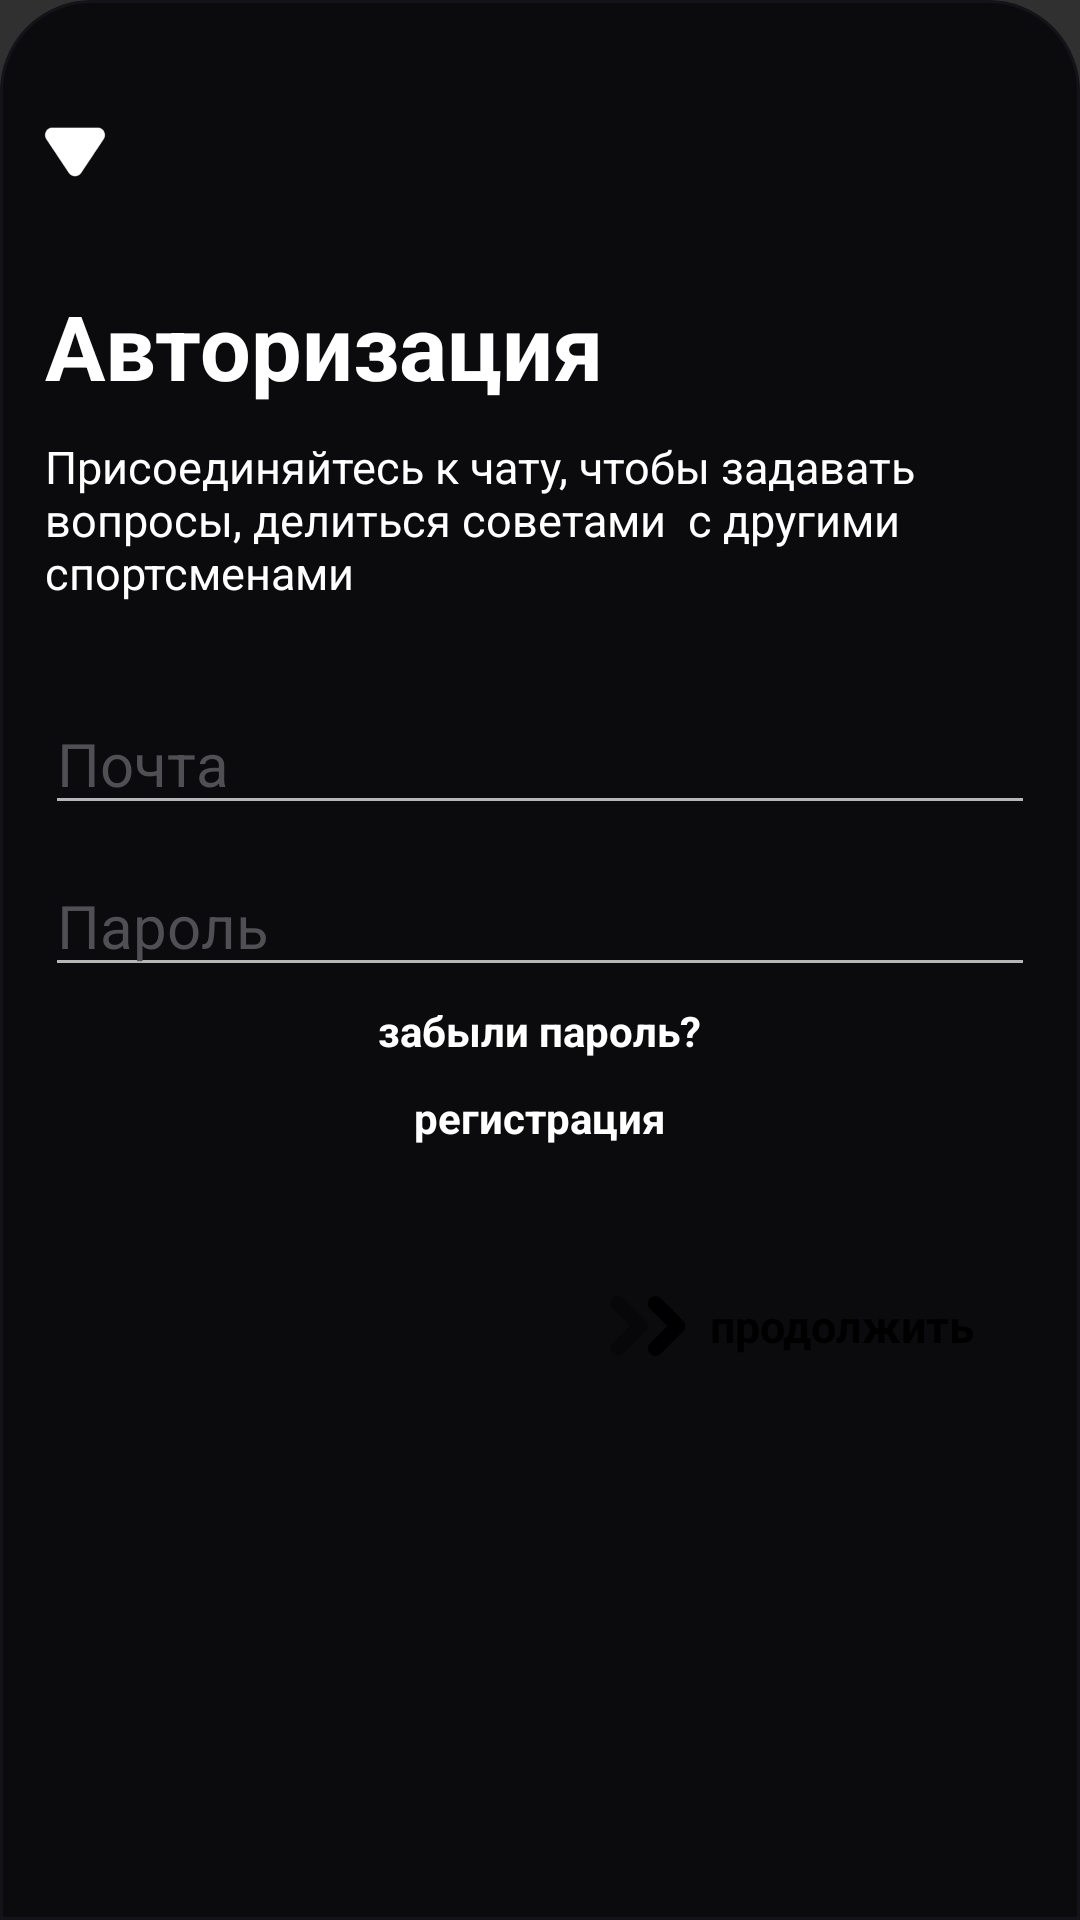

Locate icon controls on the screen. Image size 1080w x 1920h, boxes as (x1, y1, x2, y2).
arrowdown: (45, 127, 105, 177)
